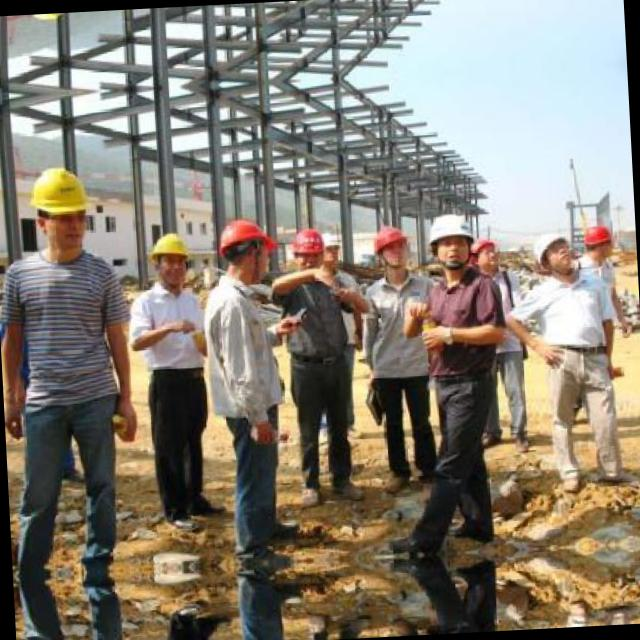helmet: (24, 156, 99, 258), (212, 212, 276, 286), (145, 228, 196, 290), (424, 212, 474, 272), (368, 220, 416, 276), (532, 230, 579, 278), (578, 218, 618, 270), (289, 224, 331, 272), (471, 234, 502, 274), (319, 234, 342, 270)
